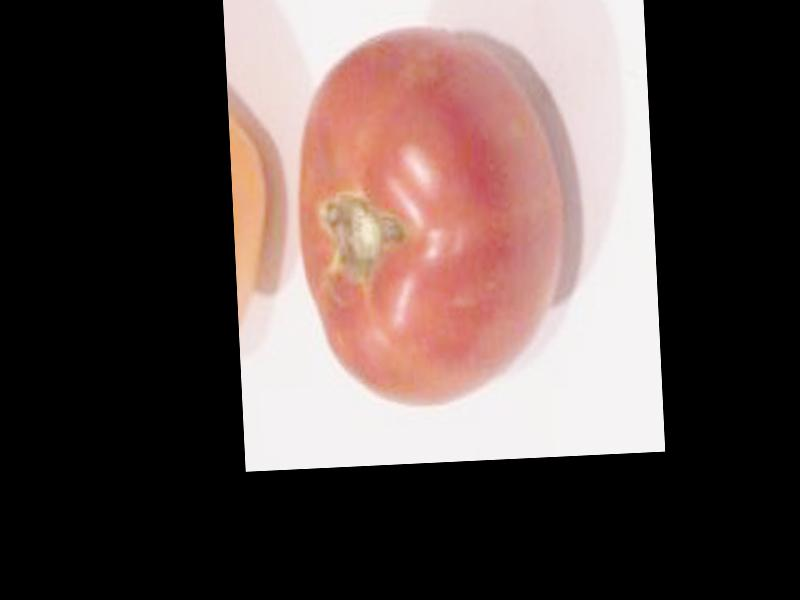Tomato: (291, 24, 568, 411)
